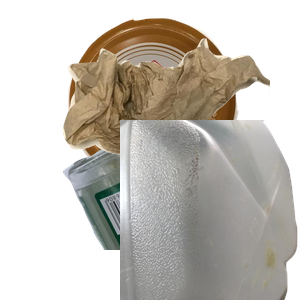glass: (60, 120, 300, 300)
metal: (66, 15, 297, 193)
plastic: (120, 120, 300, 300)
trash: (60, 36, 300, 198)
